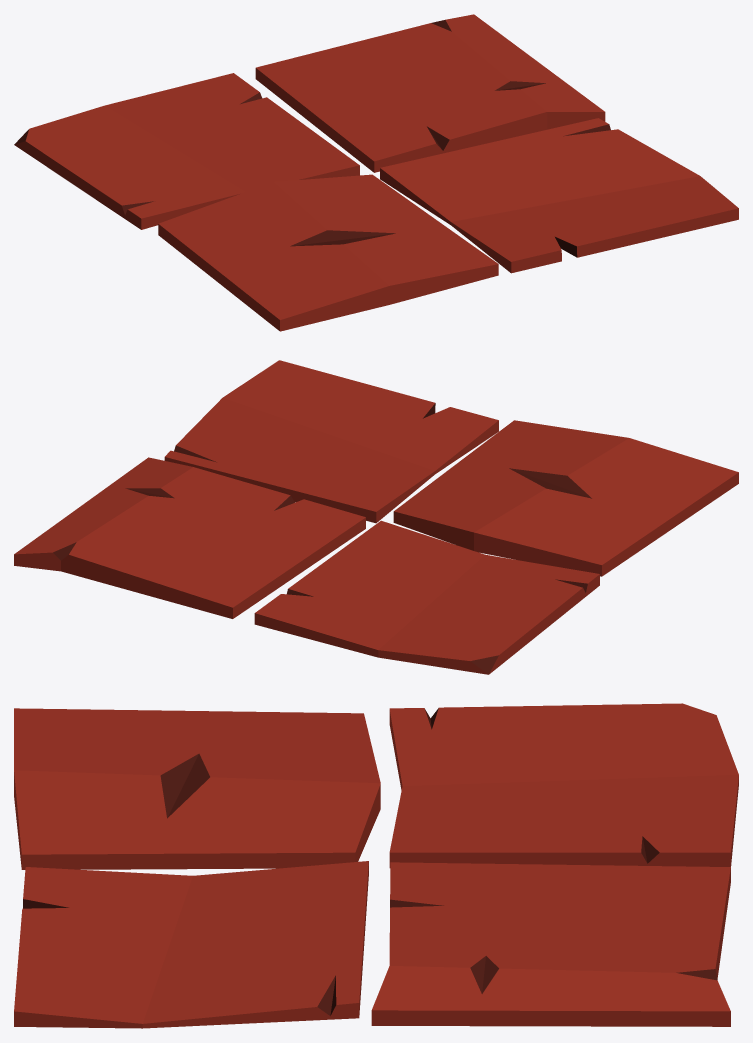
Rendered from Floor_3_Red.fbx.
The picture shows the model from 3 angles, top to bottom: view 1: azimuth 30°, elevation 25°; view 2: azimuth 150°, elevation 25°; view 3: azimuth 270°, elevation 25°; orthographic projection. The views are drawn at different scales.
Parts seen in each view (by area): view 1: Floor_3_Red_Part_1, Floor_3_Red_Part_2; view 2: Floor_3_Red_Part_1, Floor_3_Red_Part_2; view 3: Floor_3_Red_Part_1, Floor_3_Red_Part_2.
Part boxes in pixels (x1=…): Floor_3_Red_Part_1: x1=14, y1=14, x2=738, y2=331; Floor_3_Red_Part_2: x1=14, y1=20, x2=610, y2=257; Floor_3_Red_Part_1: x1=14, y1=360, x2=738, y2=674; Floor_3_Red_Part_2: x1=53, y1=403, x2=591, y2=674; Floor_3_Red_Part_1: x1=14, y1=703, x2=738, y2=1028; Floor_3_Red_Part_2: x1=23, y1=708, x2=717, y2=1015.
Size of the model in its own units: 436 by 18.82 by 425.
